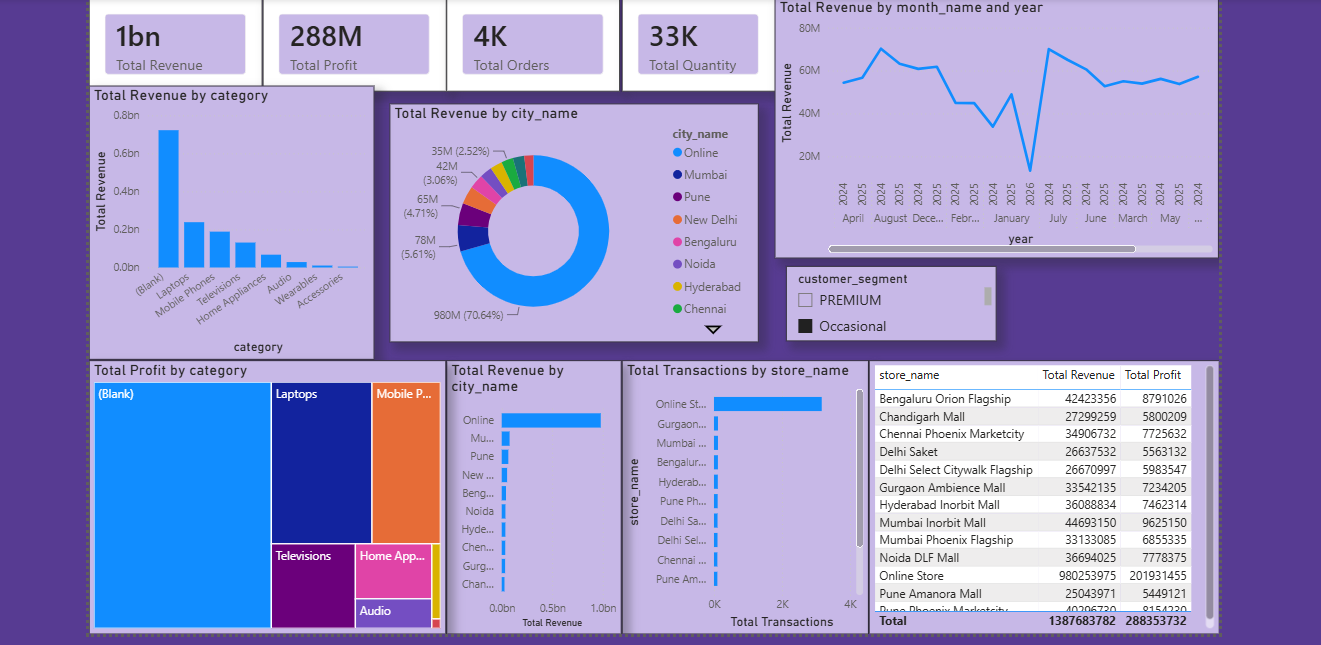

What the dashboard file says about the page in this screenshot:
{"tool":"powerbi","page":{"name":"Retail Sales Dashboard","canvas":[1280,720],"ordinal":0},"visuals":[{"type":"cardVisual","fields":{"Data":["Fact Sales.Total Revenue"]},"box":[0,0,196.5,105.8],"z":0},{"type":"cardVisual","fields":{"Data":["Fact Sales.Total Profit"]},"box":[196.5,0,207.9,105.8],"z":1000},{"type":"cardVisual","fields":{"Data":["Fact Sales.Total Orders"]},"box":[404.4,0,196.5,105.8],"z":2000},{"type":"cardVisual","fields":{"Data":["Fact Sales.Total Quantity"]},"box":[602.8,0,173.9,105.8],"z":3000},{"type":"donutChart","fields":{"Category":["Dim City.city_name"],"Y":["Fact Sales.Total Revenue"]},"box":[340.2,119.1,417.6,270.2],"z":4000},{"type":"clusteredColumnChart","fields":{"Category":["Dim Product.category"],"Y":["Fact Sales.Total Revenue"]},"box":[0,100.2,323.2,309.9],"z":5000},{"type":"clusteredBarChart","fields":{"Category":["Dim Store.store_name"],"Y":["Fact Sales.Total Transactions"]},"box":[602.8,410.1,279.7,309.9],"z":6000},{"type":"lineChart","fields":{"Category":["Dim Date.month_name","Dim Date.year"],"Y":["Fact Sales.Total Revenue"]},"box":[776.7,0,502.7,294.8],"z":7000},{"type":"clusteredBarChart","fields":{"Category":["Dim City.city_name"],"Y":["Fact Sales.Total Revenue"]},"box":[404.4,410.1,198.4,309.9],"z":8000},{"type":"treemap","fields":{"Group":["Dim Product.category"],"Values":["Fact Sales.Total Profit"]},"box":[0,410.1,404.4,309.9],"z":9000},{"type":"slicer","fields":{"Values":["Dim Date.year"]},"box":[1062.1,635.9,217.3,85],"z":10000},{"type":"tableEx","fields":{"Values":["Dim Store.store_name","Fact Sales.Total Revenue","Fact Sales.Total Profit"]},"box":[882.5,410.1,396.9,309.9],"z":11000},{"type":"slicer","fields":{"Values":["Dim Customer.customer_segment"]},"box":[789.9,304.3,238.1,85],"z":12000}]}

Visuals, with their boxes in screenshot pixels (x1, y1, x2, y2):
cardVisual - Fact Sales.Total Revenue: 86 0 259 86
cardVisual - Fact Sales.Total Profit: 259 0 442 86
cardVisual - Fact Sales.Total Orders: 442 0 615 86
cardVisual - Fact Sales.Total Quantity: 617 0 770 86
donutChart - Dim City.city_name x Fact Sales.Total Revenue: 386 98 754 336
clusteredColumnChart - Dim Product.category x Fact Sales.Total Revenue: 86 81 371 354
clusteredBarChart - Dim Store.store_name x Fact Sales.Total Transactions: 617 354 864 628
lineChart - Dim Date.month_name x Dim Date.year: 770 0 1213 253
clusteredBarChart - Dim City.city_name x Fact Sales.Total Revenue: 442 354 617 628
treemap - Dim Product.category x Fact Sales.Total Profit: 86 354 442 628
slicer - Dim Date.year: 1022 553 1213 628
tableEx - Dim Store.store_name x Fact Sales.Total Revenue: 864 354 1213 628
slicer - Dim Customer.customer_segment: 782 261 992 336
